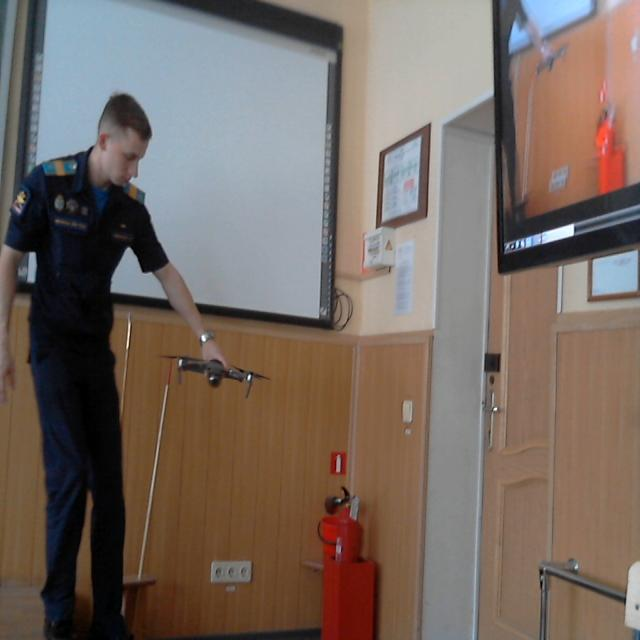drone: (161, 333, 269, 401)
